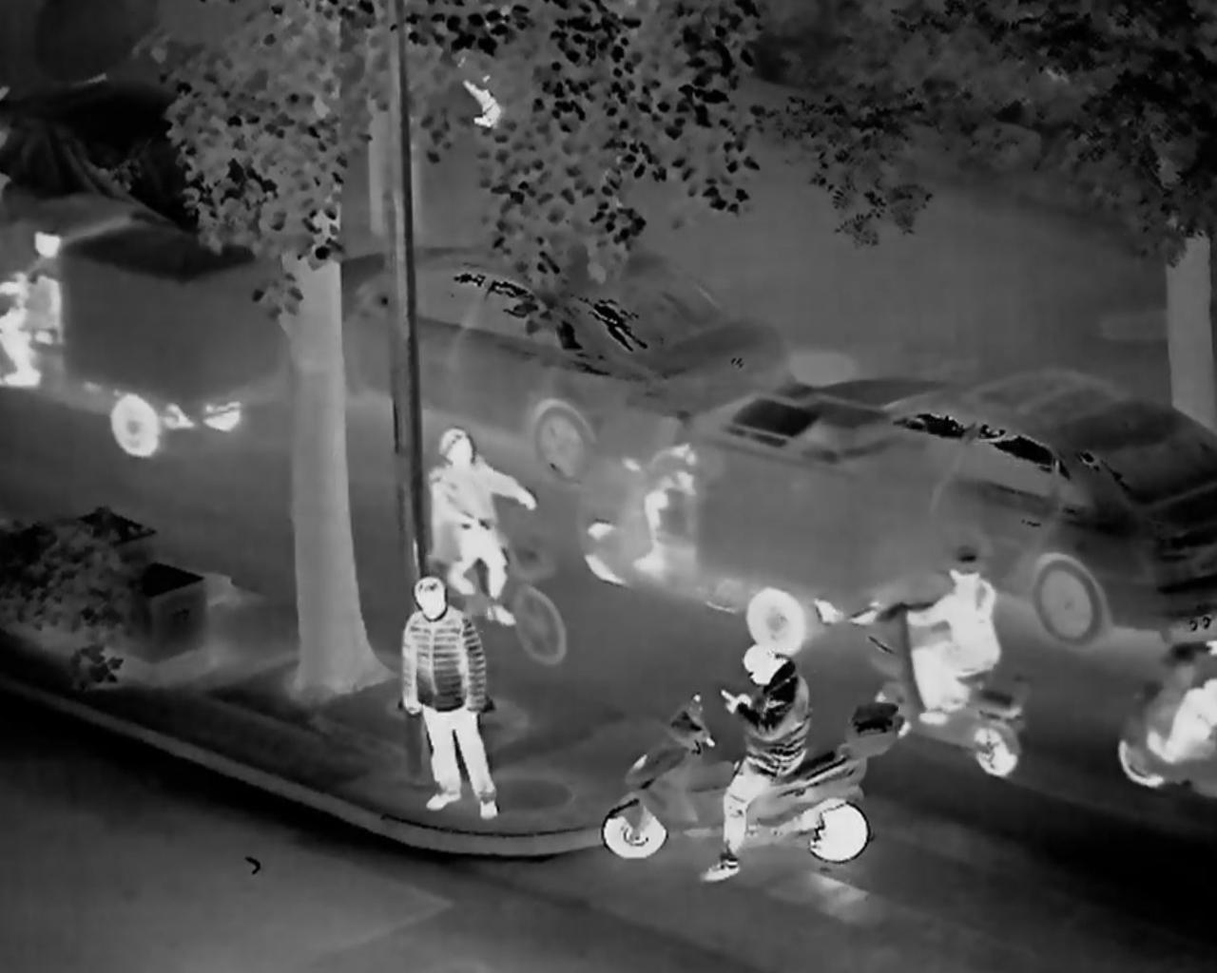person: (676, 634, 813, 902), (392, 572, 528, 813), (401, 414, 536, 610), (907, 551, 1002, 729), (626, 431, 697, 575), (1156, 629, 1215, 765)
